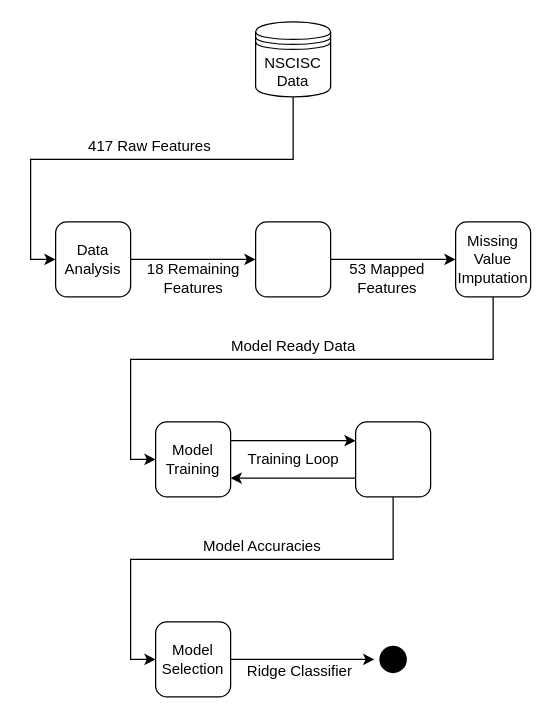
Image size: 553x719. Some labels were removed from this diagram. Here are the shapes that lost their labels. From the top down, the centre of each, then its label:
(292,259): Feature Finalization
(392,459): Results Analysis
